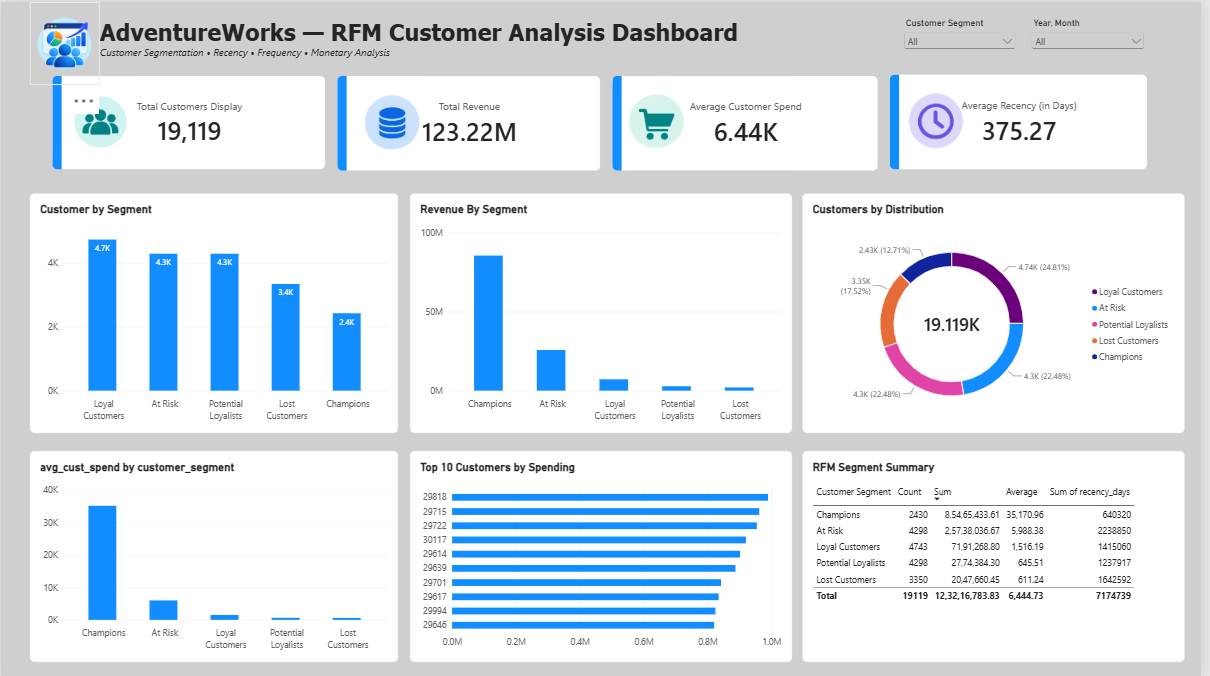

Layout of this report page (visuals, bound fields, positions):
{"tool":"powerbi","page":{"name":"Dashboard","canvas":[1920,1080],"ordinal":0},"visuals":[{"type":"cardVisual","fields":{"Data":["Adv_Works.Total Customers"]},"box":[81.4,117.6,437.9,150.2],"z":0},{"type":"cardVisual","fields":{"Data":["Sum(Adv_Works.monetary_value)"]},"box":[537.5,117.6,421.7,152],"z":1000},{"type":"cardVisual","fields":{"Data":["Adv_Works.avg rec"]},"box":[1422.4,115.8,412.6,152],"z":2000},{"type":"cardVisual","fields":{"Data":["Adv_Works.avg_cust_spend"]},"box":[977.2,117.6,425.3,152],"z":3000},{"type":"clusteredColumnChart","title":"Customer by Segment","fields":{"Category":["Adv_Works.customer_segment"],"Y":["Count(Adv_Works.customerid)"]},"box":[45.2,305.8,589.9,383.6],"z":4000},{"type":"clusteredColumnChart","title":"Revenue By Segment","fields":{"Category":["Adv_Works.customer_segment"],"Y":["Sum(Adv_Works.monetary_value)"]},"box":[653.3,305.8,611.7,383.6],"z":5000},{"type":"donutChart","title":"Customers by Distribution","fields":{"Category":["Adv_Works.customer_segment"],"Y":["Count(Adv_Works.customerid)"]},"box":[1281.2,305.8,611.7,383.6],"z":6000},{"type":"columnChart","fields":{"Category":["Adv_Works.customer_segment"],"Y":["Adv_Works.avg_cust_spend"]},"box":[45.2,718.4,589.9,338.4],"z":7000},{"type":"clusteredBarChart","title":"Top 10 Customers by Spending","fields":{"Category":["Adv_Works.customerid"],"Y":["Sum(Adv_Works.monetary_value)"]},"box":[653,718,612,338],"z":8000},{"type":"tableEx","title":"RFM Segment Summary","fields":{"Values":["Adv_Works.customer_segment","CountNonNull(Adv_Works.customerid)","Sum(Adv_Works.monetary_value)","Avg(Adv_Works.monetary_value)","Sum(Adv_Works.recency_days)"]},"box":[1281,718,612,338],"z":9000},{"type":"slicer","fields":{"Values":["Adv_Works.customer_segment"]},"box":[1440,24,188,62],"z":10000},{"type":"slicer","fields":{"Values":["Adv_Works.last_purchase_date.Variation.Date Hierarchy.Year","Adv_Works.last_purchase_date.Variation.Date Hierarchy.Month"]},"box":[1644,24,190,86],"z":11000},{"type":"textbox","box":[158,24,1108,62],"z":12000},{"type":"textbox","box":[158,68,520,42],"z":13000},{"type":"image","box":[574,126,104,132],"z":14000},{"type":"image","box":[106,134,106,116],"z":15000},{"type":"image","box":[996,124,106,134],"z":16000},{"type":"image","box":[1440,126,112,126],"z":17000},{"type":"image","box":[46,0,112,132],"z":17001}]}

Visuals, with their boxes in screenshot pixels (x1, y1, x2, y2), scaled from the page's 1920x1080 canvas onto the 1210x676 screenshot:
cardVisual - Adv_Works.Total Customers: bbox(51, 74, 327, 168)
cardVisual - Sum(Adv_Works.monetary_value): bbox(339, 74, 604, 169)
cardVisual - Adv_Works.avg rec: bbox(896, 72, 1156, 168)
cardVisual - Adv_Works.avg_cust_spend: bbox(616, 74, 884, 169)
"Customer by Segment" clusteredColumnChart: bbox(28, 191, 400, 432)
"Revenue By Segment" clusteredColumnChart: bbox(412, 191, 797, 432)
"Customers by Distribution" donutChart: bbox(807, 191, 1193, 432)
columnChart - Adv_Works.customer_segment x Adv_Works.avg_cust_spend: bbox(28, 450, 400, 661)
"Top 10 Customers by Spending" clusteredBarChart: bbox(412, 449, 797, 661)
"RFM Segment Summary" tableEx: bbox(807, 449, 1193, 661)
slicer - Adv_Works.customer_segment: bbox(908, 15, 1026, 54)
slicer - Adv_Works.last_purchase_date.Variation.Date Hierarchy.Year x Adv_Works.last_purchase_date.Variation.Date Hierarchy.Month: bbox(1036, 15, 1156, 69)
textbox: bbox(100, 15, 798, 54)
textbox: bbox(100, 43, 427, 69)
image: bbox(362, 79, 427, 161)
image: bbox(67, 84, 134, 156)
image: bbox(628, 78, 694, 161)
image: bbox(908, 79, 978, 158)
image: bbox(29, 0, 100, 83)
